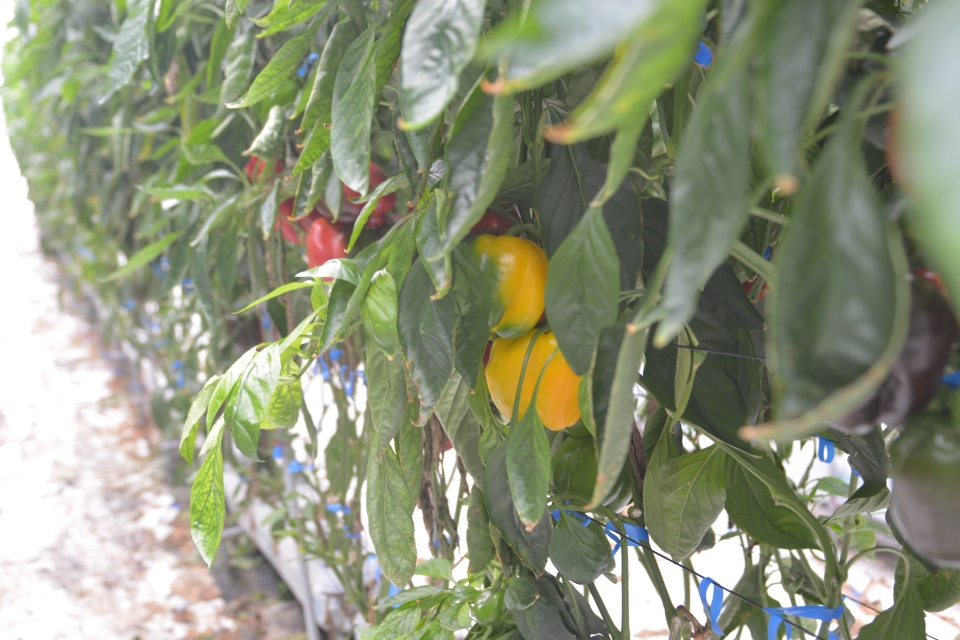fruit: (826, 268, 958, 428), (887, 418, 960, 567), (484, 326, 583, 433), (469, 234, 548, 340), (550, 434, 634, 519), (316, 158, 397, 229), (304, 216, 348, 282), (475, 585, 518, 630)
